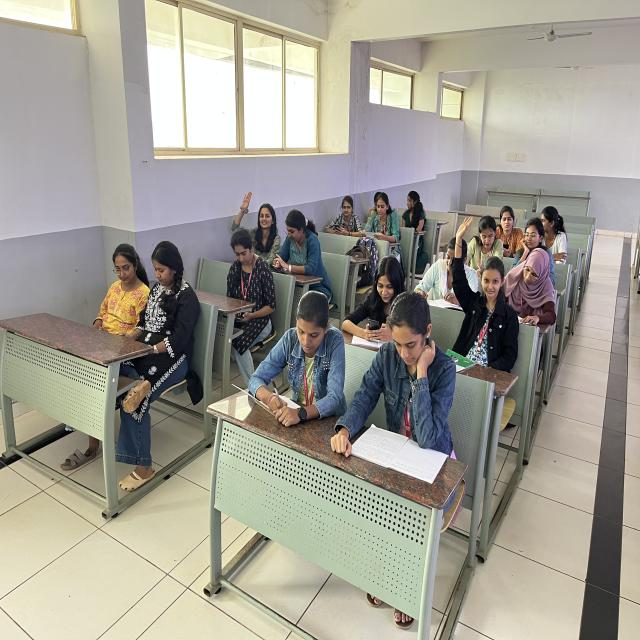Hand Rising: (232, 194, 280, 266)
Reading: (360, 295, 467, 476)
Using Phone: (222, 228, 274, 392), (271, 210, 330, 312), (344, 256, 410, 342), (328, 195, 363, 237)
Writing: (244, 288, 341, 438), (507, 247, 566, 330), (434, 238, 480, 302), (463, 214, 502, 279)
